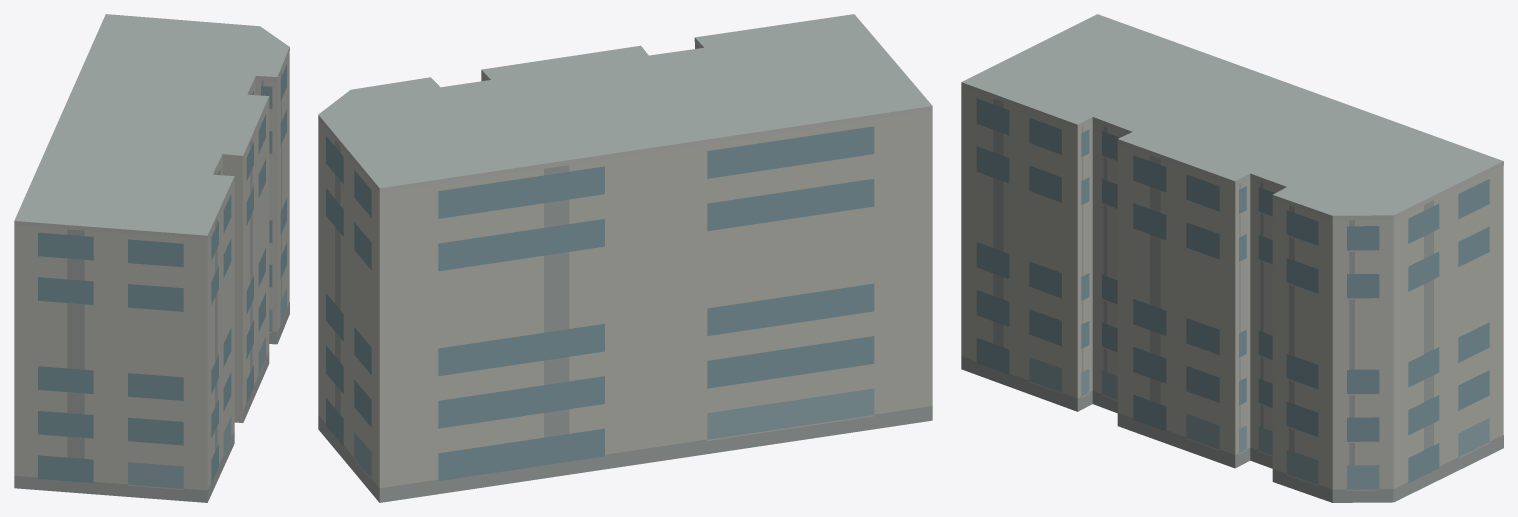
The model's file is survey-upis-32937476.glb.
3 views of the same model, side by side, from view 1: azimuth 30°, elevation 25°; view 2: azimuth 150°, elevation 25°; view 3: azimuth 270°, elevation 25° (orthographic). The views are drawn at different scales.
Visible parts, largest first — view 1: survey-upis-32937476.tmp; view 2: survey-upis-32937476.tmp; view 3: survey-upis-32937476.tmp.
Part boxes in pixels (bbox=[...]): survey-upis-32937476.tmp: bbox=[14, 14, 289, 502]; survey-upis-32937476.tmp: bbox=[318, 14, 932, 502]; survey-upis-32937476.tmp: bbox=[961, 14, 1503, 502].
Bounding box in the file's own units: 23.22 × 15.4 × 26.38.
